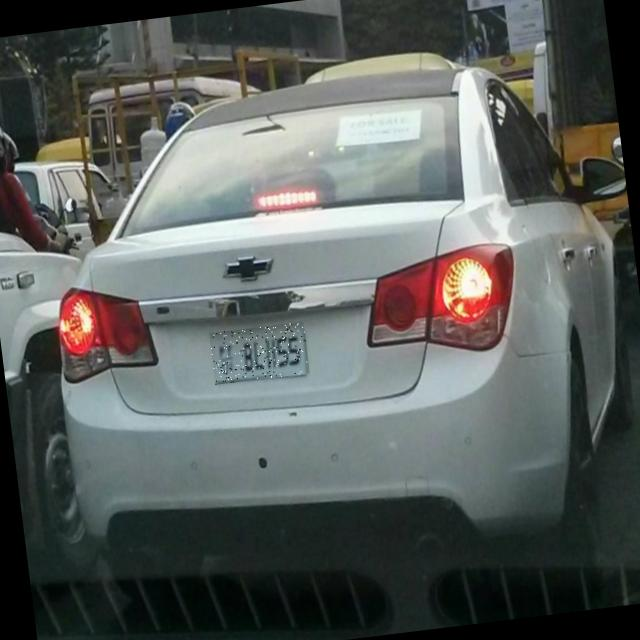Plate: (210, 322, 311, 385)
